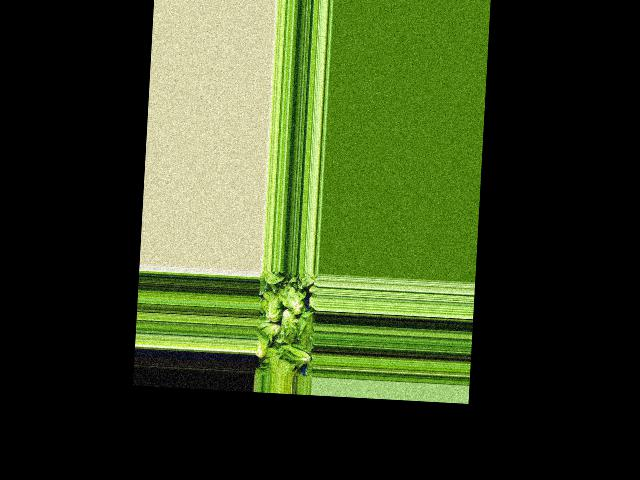lettuce: (255, 327, 270, 363)
